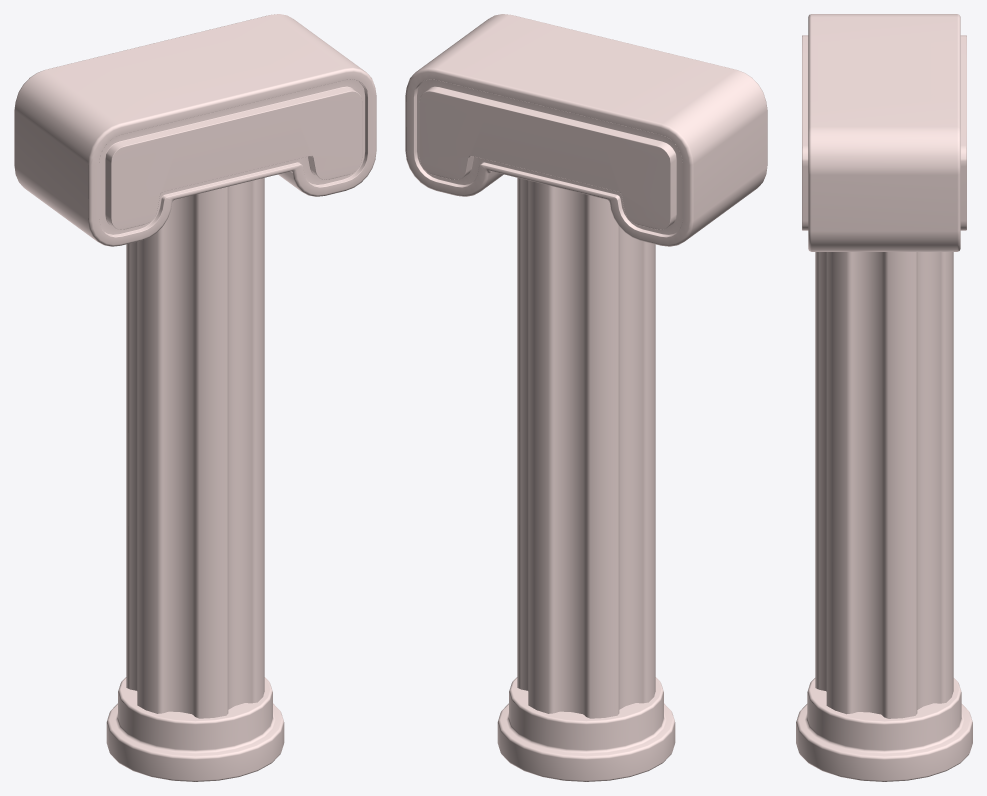
File: Public_9_Exhibit_Column_2.glb
3 views of the same model, side by side, from view 1: azimuth 30°, elevation 25°; view 2: azimuth 150°, elevation 25°; view 3: azimuth 270°, elevation 25° (orthographic).
Parts seen in each view (by area): view 1: Public_9_Exhibit_Column_2; view 2: Public_9_Exhibit_Column_2; view 3: Public_9_Exhibit_Column_2.
Boxes of the visible parts, x1,y1,x2,y2 form: Public_9_Exhibit_Column_2: (14, 14, 376, 781); Public_9_Exhibit_Column_2: (405, 14, 767, 781); Public_9_Exhibit_Column_2: (796, 14, 972, 781).
Bounding box in the file's own units: 3.38 × 7.59 × 1.81.
Materials: 1 (1 with a texture image).
